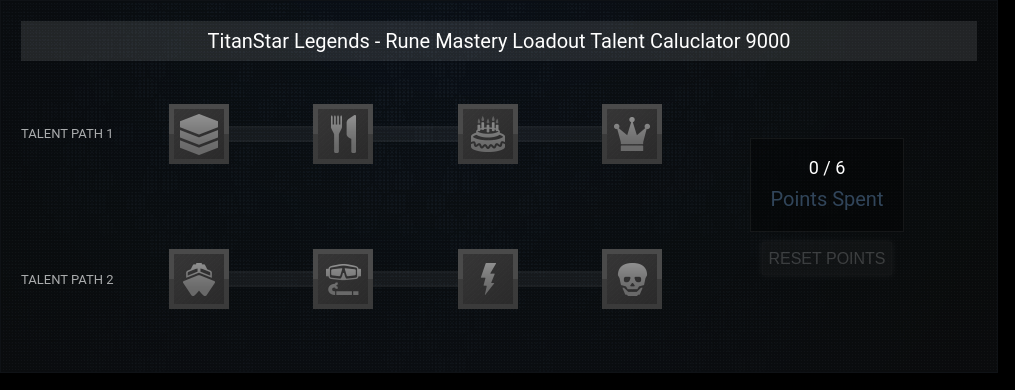
Test: TalentMap › counter changes › change points counter on adding points
Expected: the element with test id "pointsCounter" reads "0 / 6 Points Spent", [750,138,904,232]
Click the 1st element with test id "skillPathIcon": (198, 134) [174,109,224,159]
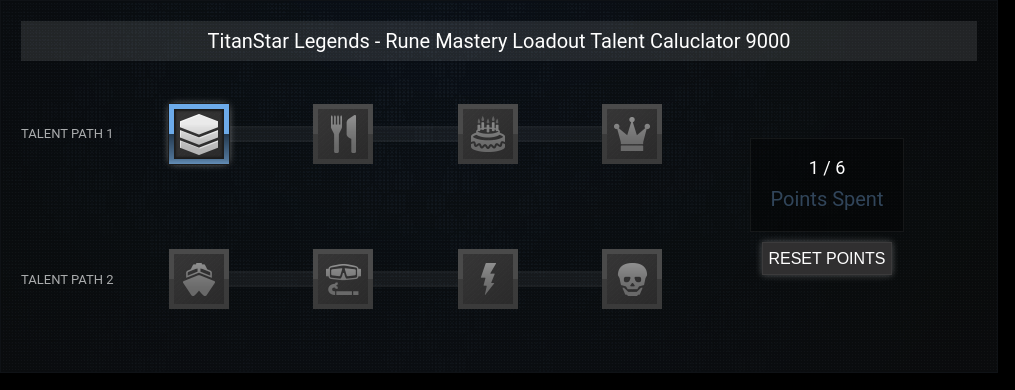
Result: the element with test id "pointsCounter" reads "1 / 6 Points Spent" at [750,138,904,232]
